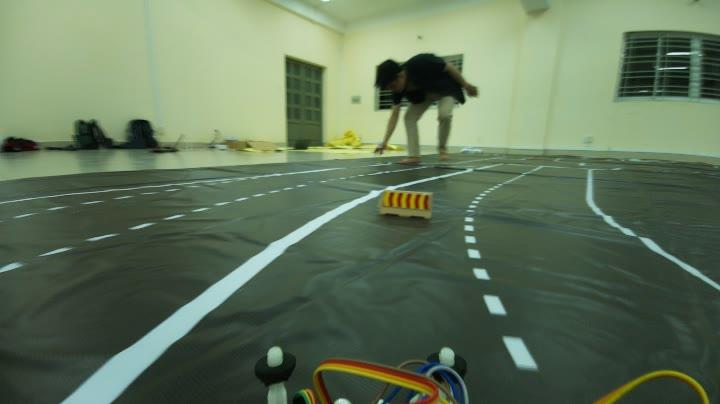roadblock: (374, 182, 438, 227)
